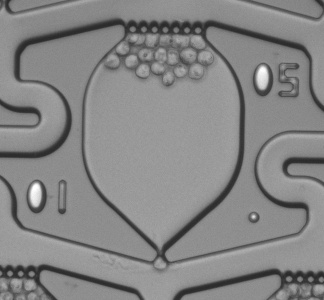AptNum: (247, 57, 303, 103)
Marker: (245, 208, 263, 226)
StNum: (21, 175, 74, 221)
